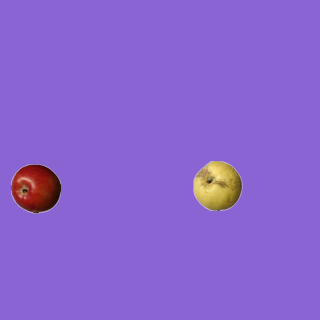Apple Braeburn: (10, 163, 60, 213)
Apple Golden 1: (192, 160, 242, 210)
